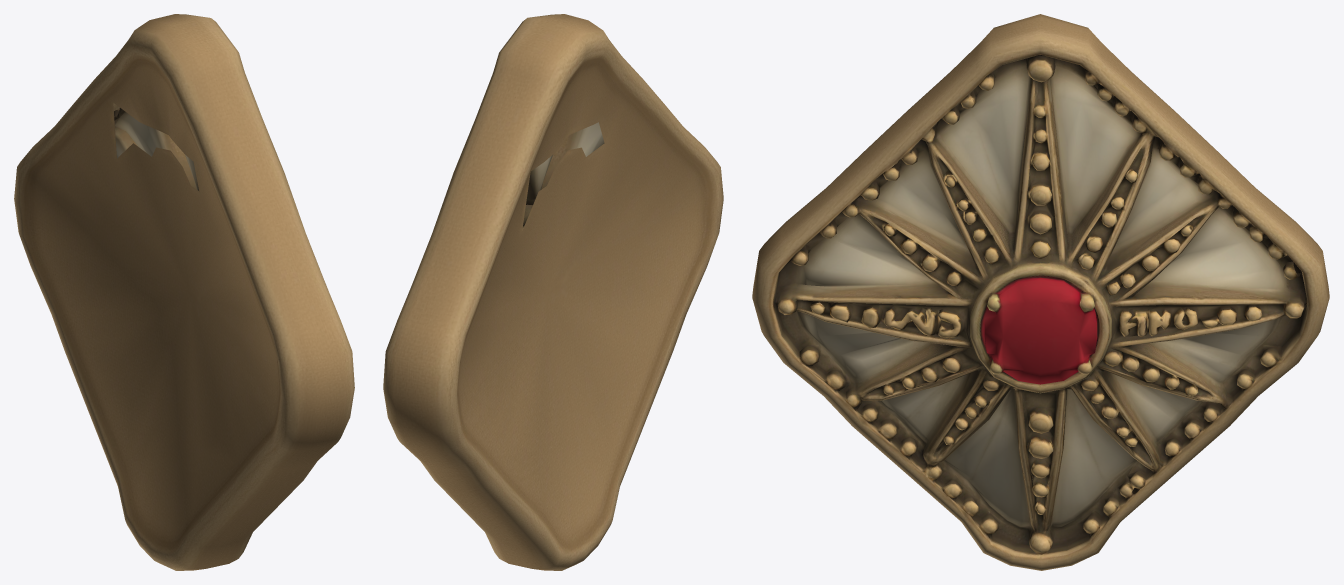
3 renders of one model, left to right at view 1: azimuth 30°, elevation 25°; view 2: azimuth 150°, elevation 25°; view 3: azimuth 270°, elevation 25°, orthographic.
Visible parts, largest first — view 1: tripo_node_7bb047ef-90db-4d73-9eb0-e964dc3549e0; view 2: tripo_node_7bb047ef-90db-4d73-9eb0-e964dc3549e0; view 3: tripo_node_7bb047ef-90db-4d73-9eb0-e964dc3549e0.
Boxes of the visible parts, left/top/right/bottom form: tripo_node_7bb047ef-90db-4d73-9eb0-e964dc3549e0: left=14, top=14, right=354, bottom=570; tripo_node_7bb047ef-90db-4d73-9eb0-e964dc3549e0: left=383, top=14, right=723, bottom=570; tripo_node_7bb047ef-90db-4d73-9eb0-e964dc3549e0: left=752, top=14, right=1329, bottom=570.
Size of the model in its own units: 0.0247 by 0.1 by 0.0973.
1 material, 1 textured.
